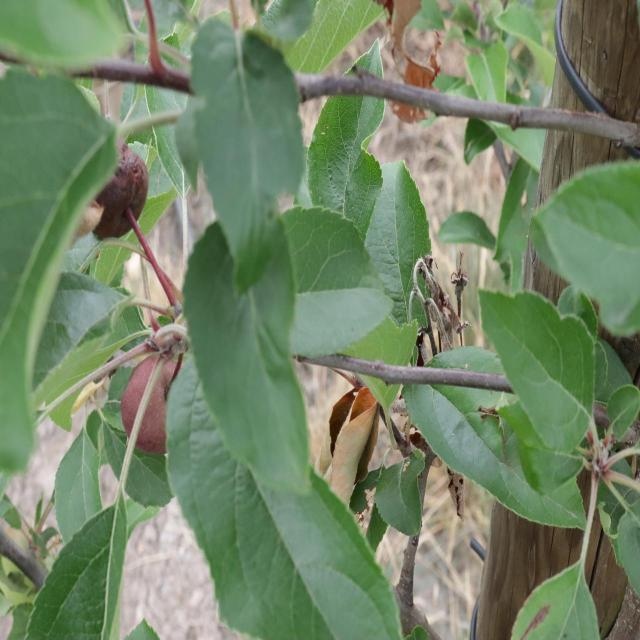-FireBlight-: (310, 378, 393, 502), (382, 0, 453, 128), (398, 262, 471, 362)
